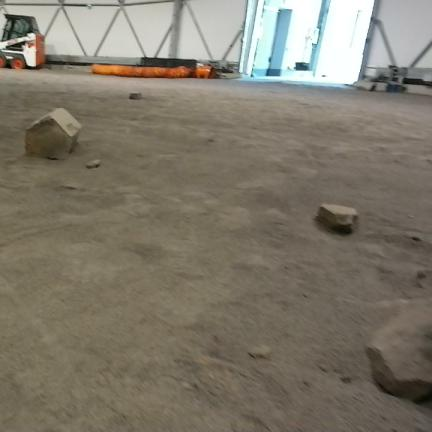Rock: (366, 305, 431, 402), (26, 108, 82, 160), (316, 204, 358, 233), (248, 345, 270, 358), (86, 159, 100, 169), (129, 93, 142, 100)
